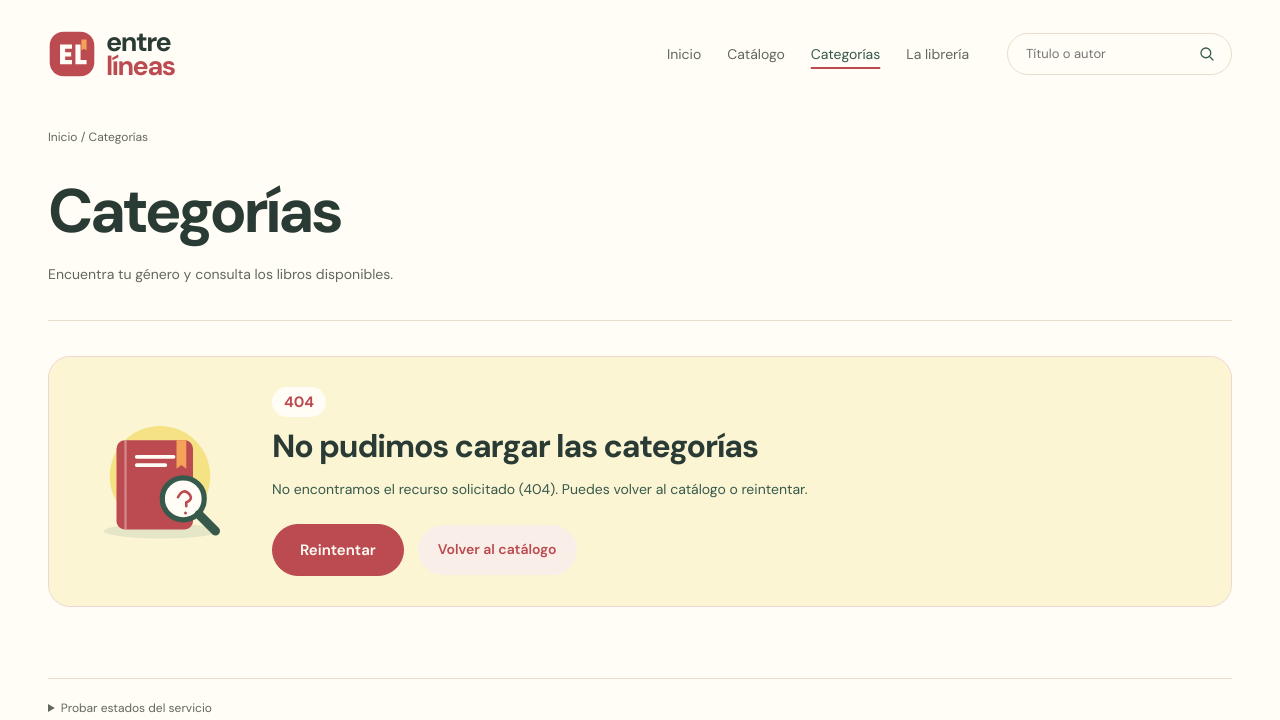
Test: Navegación y estados de las consultas › reintenta un primer acceso fallido sin inventar datos
The width and height of the screenshot is (1280, 720).
Expected: the message is shown, [48,356,1232,606]
Click the button "Reintentar".
click(338, 550)  # box [272,524,404,576]
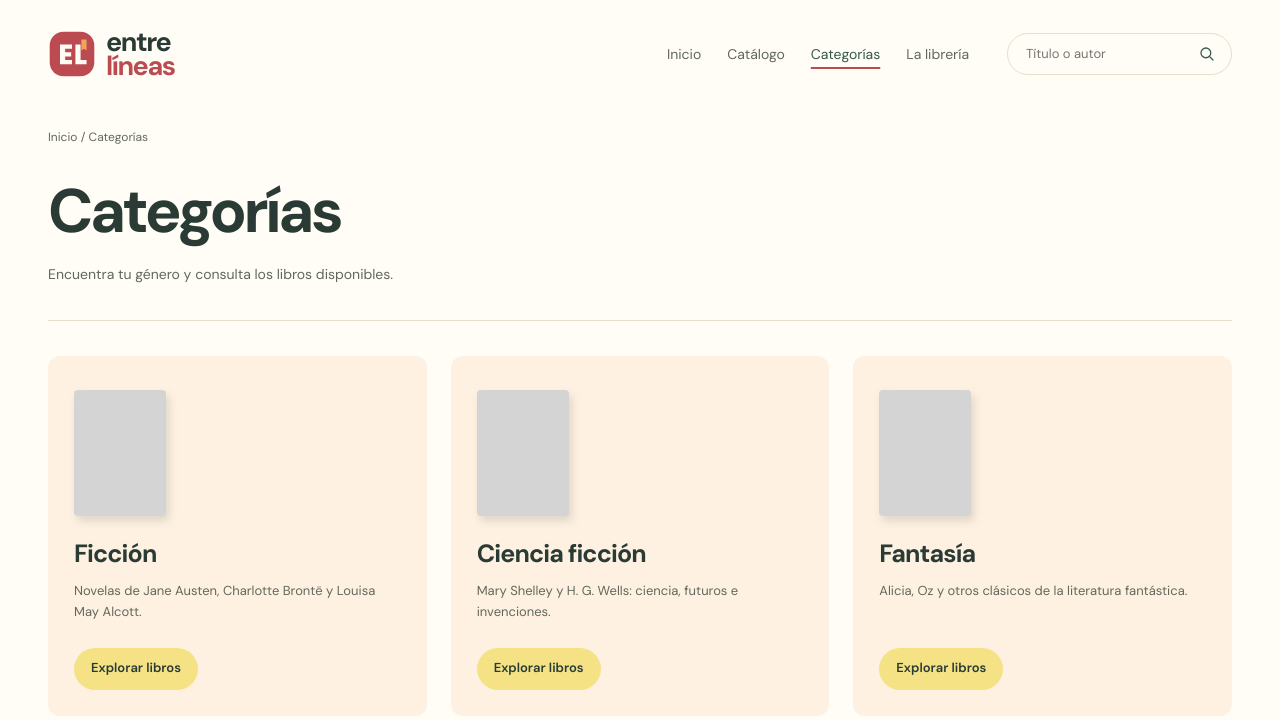
Expected: the heading "Ficción" is shown, [74,537,156,570]
